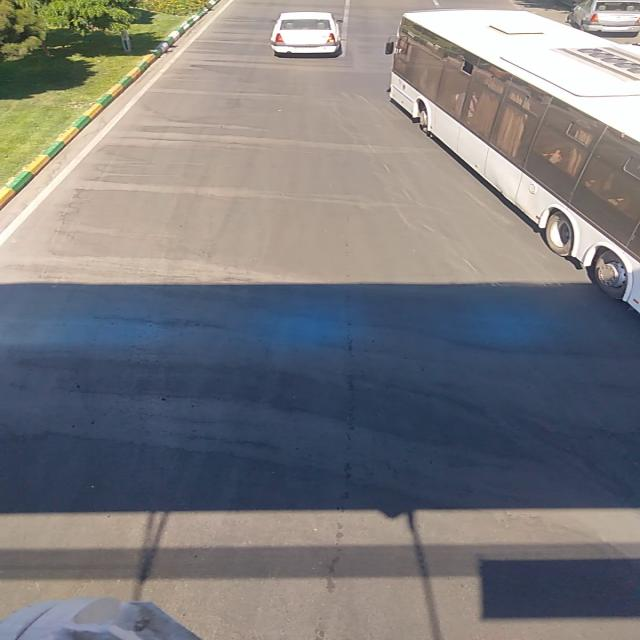bus: (385, 9, 638, 311)
car: (264, 12, 346, 58), (571, 1, 638, 33)
